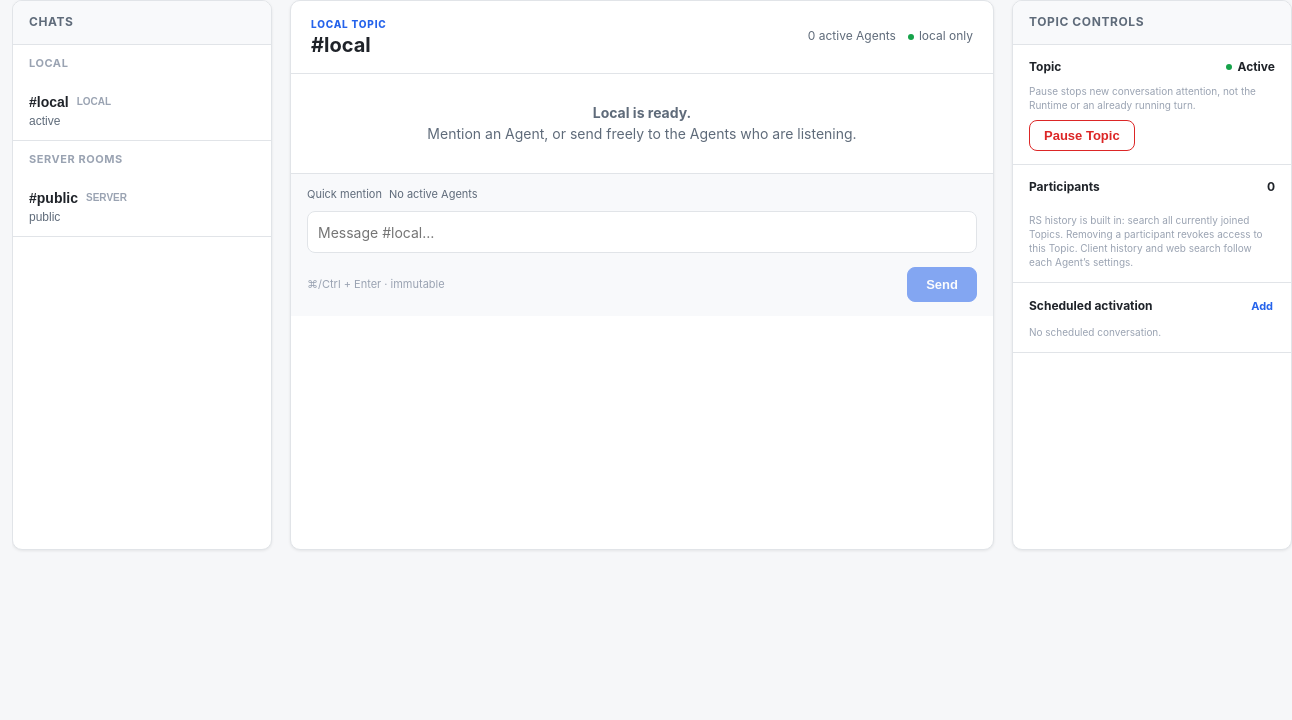
Test case: ChatsView › renders Human and Agent history and preserves a failed Human publish for retry
This screenshot has width=1292, height=720.
Click the button "#public server public".
click(142, 207)  # box [13,178,271,237]
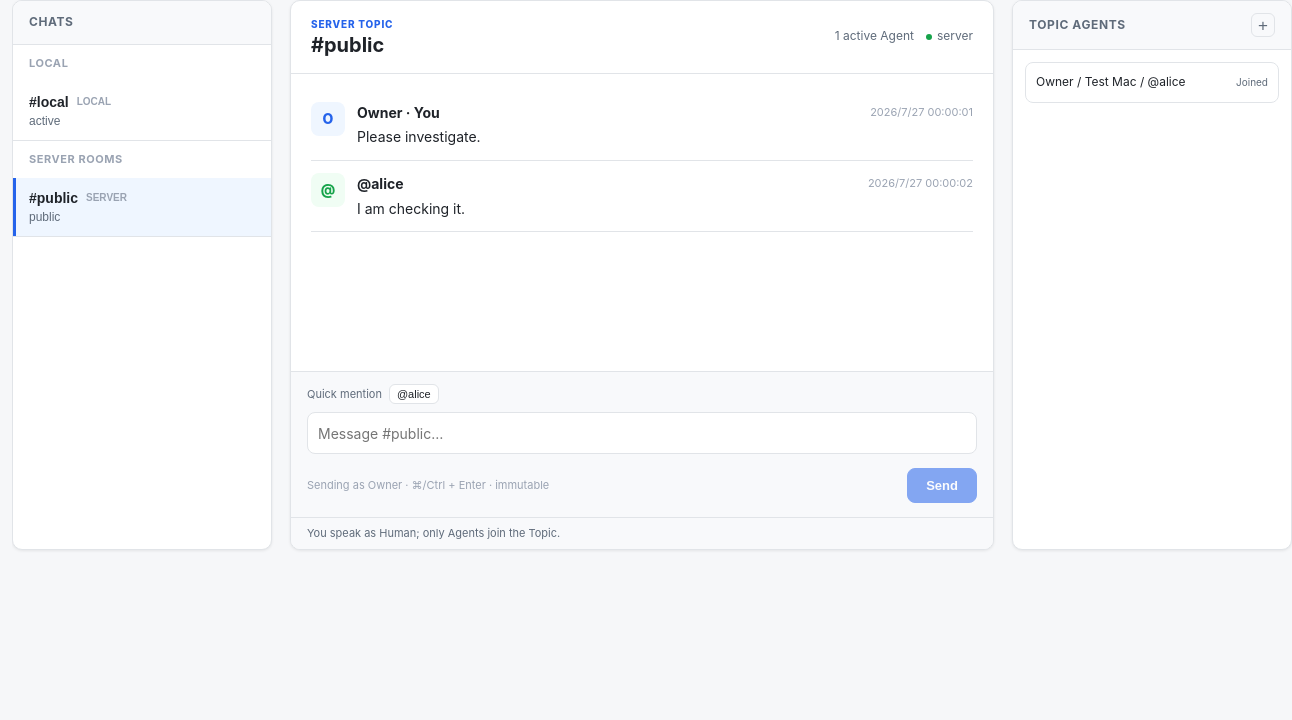
Check: the text "Owner · You" is shown, box [357,102,440,123]
Check: the text "@alice" is shown, box [357,173,404,195]
Type "Can you check this?" into the text box with placeholder "Message #public…".
click(642, 433); type("Can you check this?")  # box [307,412,977,454]
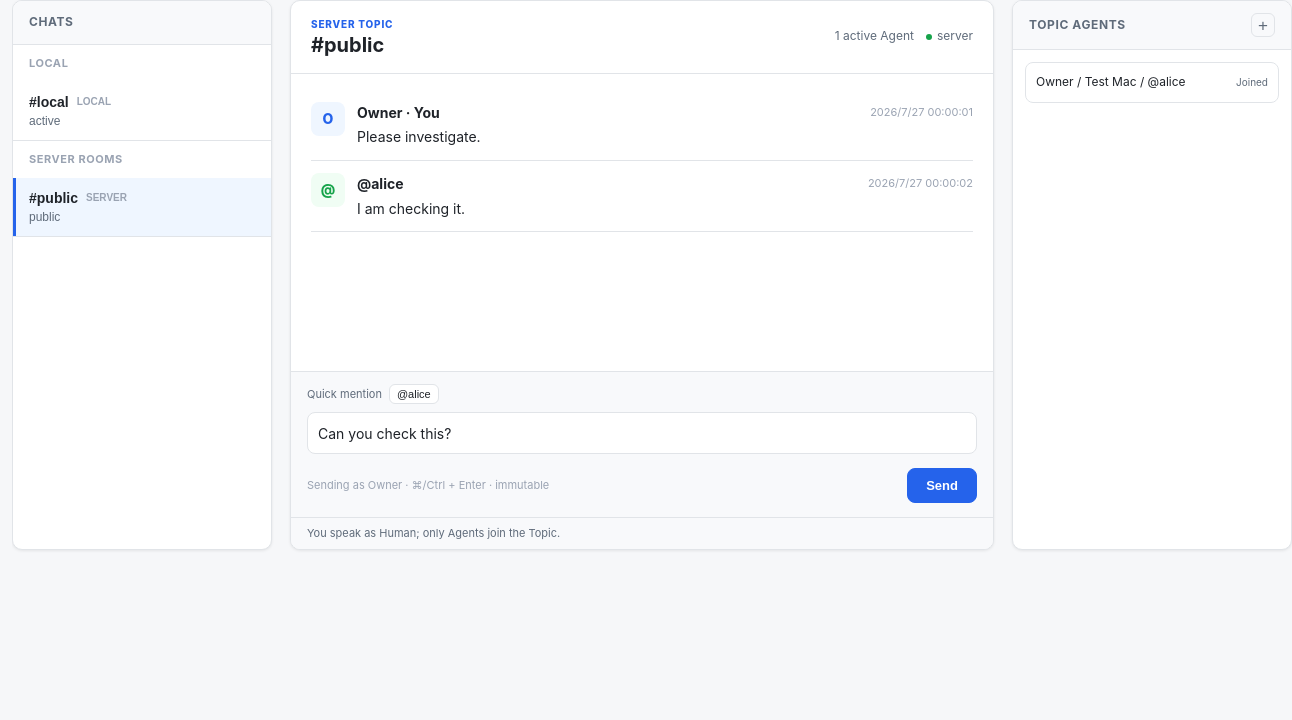
Click the button "Send".
click(942, 486)  # box [907,468,977,503]
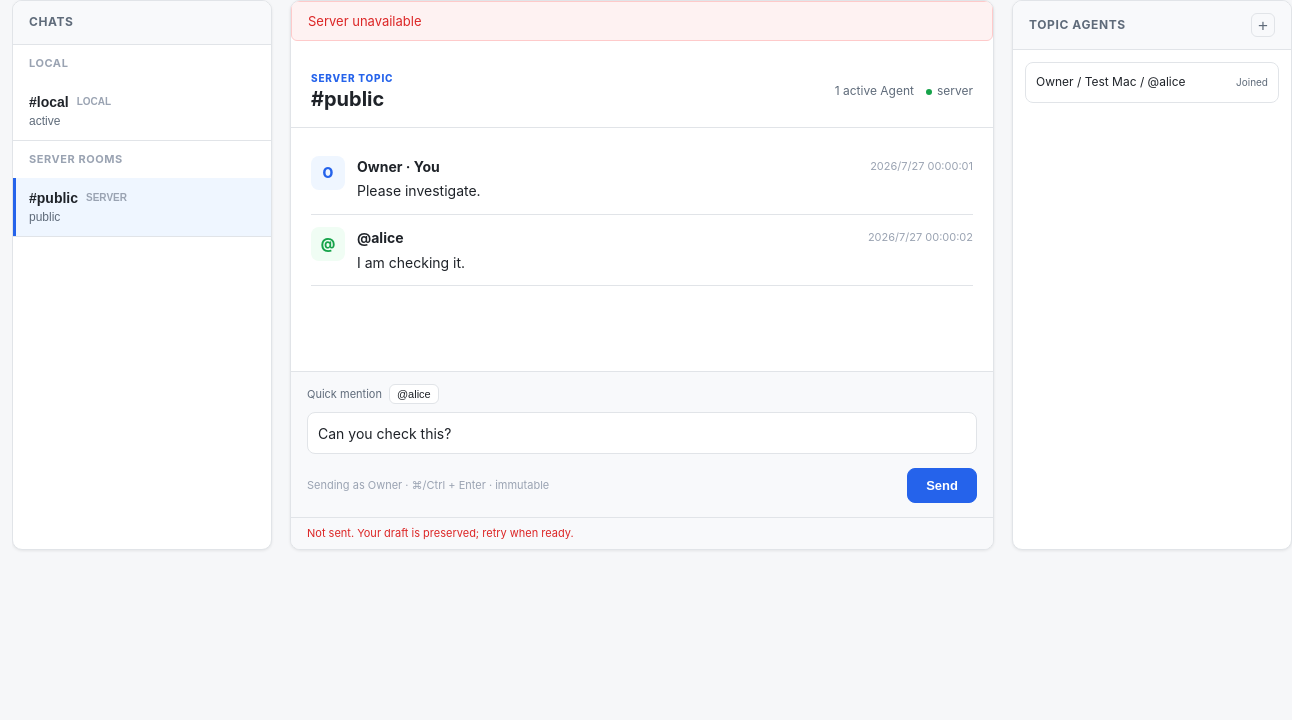
Check: the text "Your draft is preserved" is shown, box [307,526,574,540]
Click the button "Send".
click(942, 486)  # box [907,468,977,503]
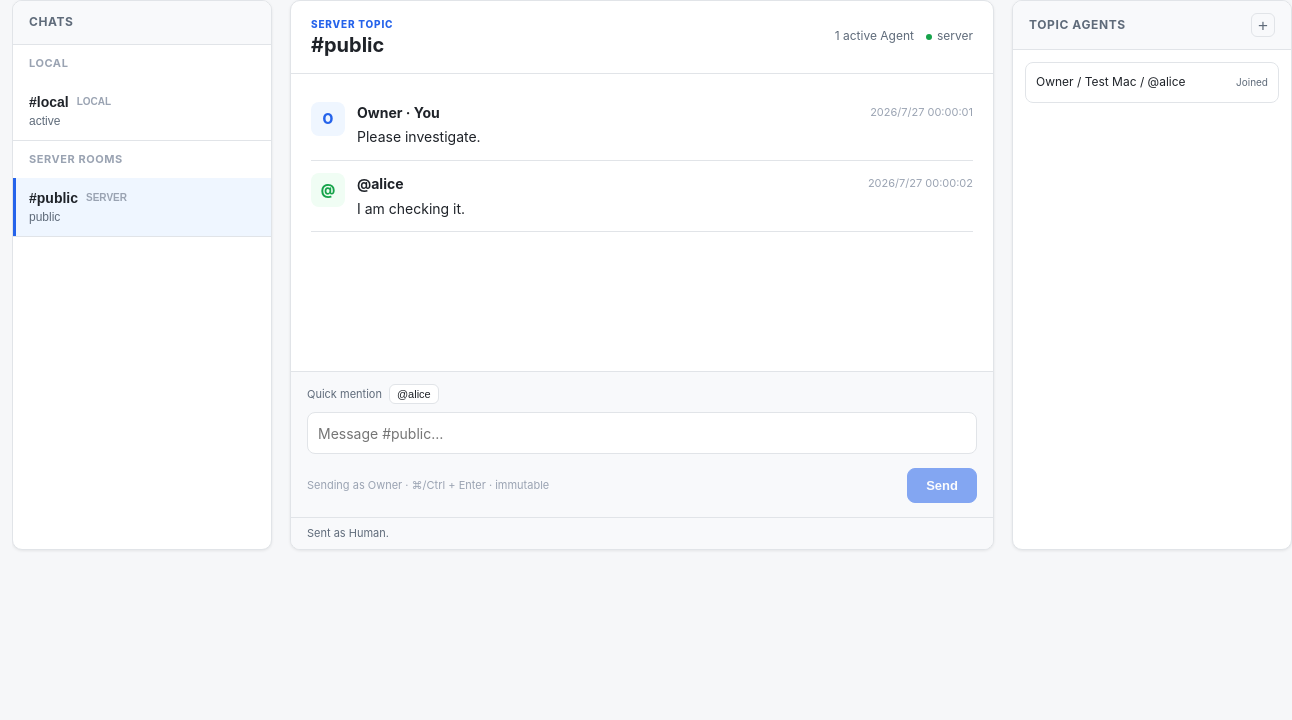
Check: the text "Sent as Human" is shown, box [307,526,389,540]
Check: the text box with placeholder "Message #public…" is empty, box [307,412,977,454]
